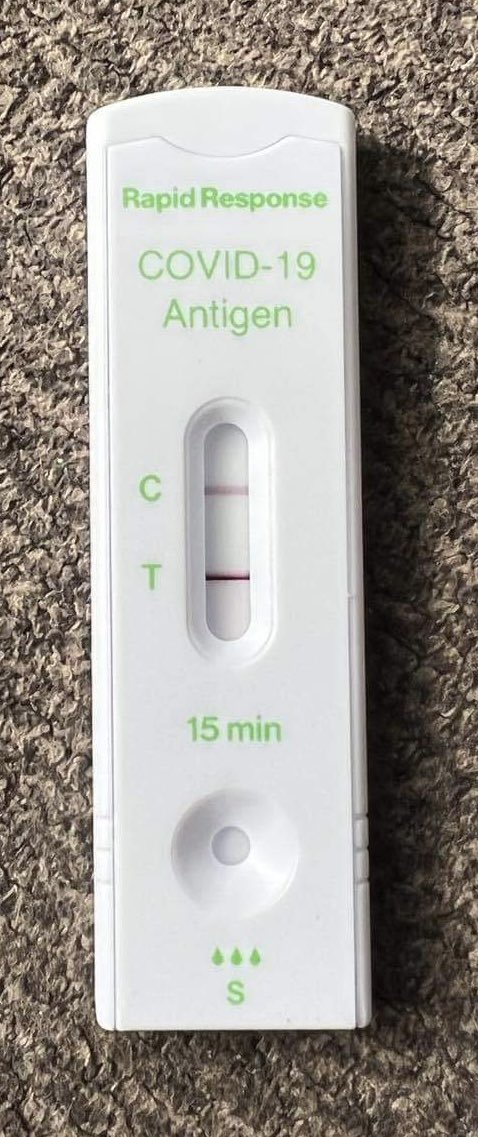positive: (178, 405, 268, 657)
